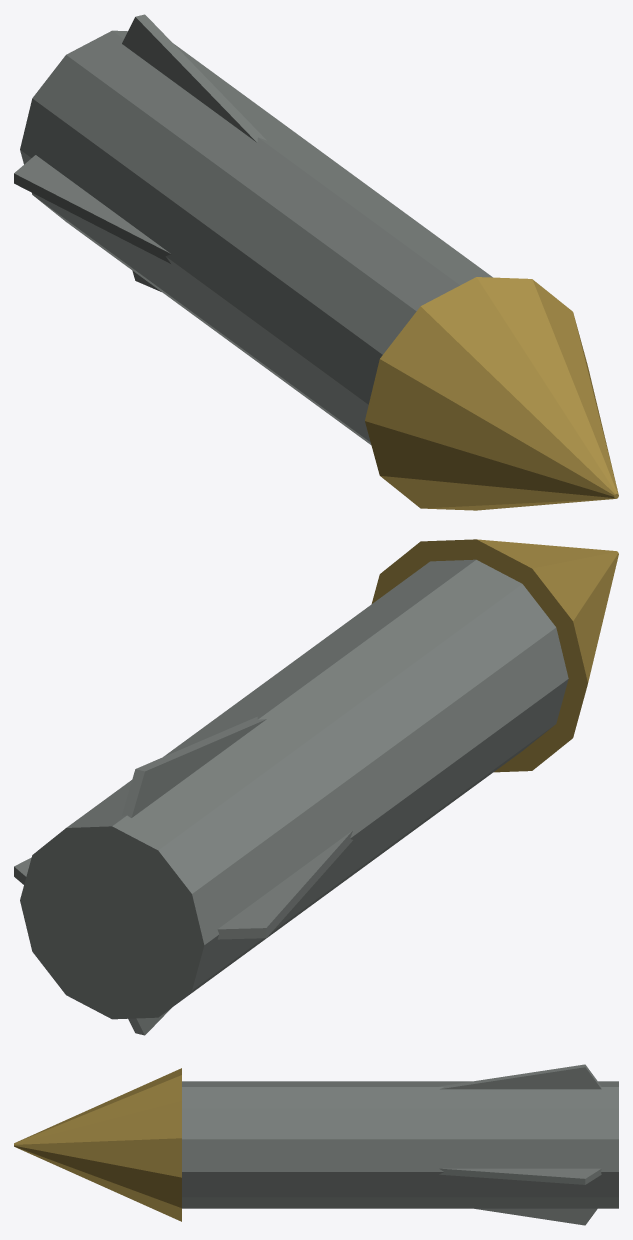
File: rocket-projectile.glb
The picture shows the model from 3 angles, top to bottom: view 1: azimuth 30°, elevation 25°; view 2: azimuth 150°, elevation 25°; view 3: azimuth 270°, elevation 25°; orthographic projection. The views are drawn at different scales.
Visible parts, largest first — view 1: RocketMotor, OgiveWarhead, RocketFin1, RocketFin2; view 2: RocketMotor, OgiveWarhead, RocketFin1, RocketFin2; view 3: RocketMotor, OgiveWarhead, RocketFin1, RocketFin0, RocketFin3.
Part boxes in pixels (bbox=[...]): RocketMotor: bbox=[20, 30, 492, 445]; OgiveWarhead: bbox=[365, 277, 618, 510]; RocketFin1: bbox=[122, 14, 266, 142]; RocketFin2: bbox=[14, 155, 170, 263]; RocketMotor: bbox=[20, 559, 568, 1019]; OgiveWarhead: bbox=[371, 539, 618, 772]; RocketFin1: bbox=[122, 716, 266, 817]; RocketFin2: bbox=[217, 830, 352, 939]; RocketMotor: bbox=[182, 1081, 618, 1208]; OgiveWarhead: bbox=[14, 1068, 181, 1221]; RocketFin1: bbox=[439, 1064, 601, 1089]; RocketFin0: bbox=[439, 1168, 601, 1184]; RocketFin3: bbox=[474, 1208, 597, 1225].
Size of the model in its own units: 0.104 by 0.104 by 0.36.
